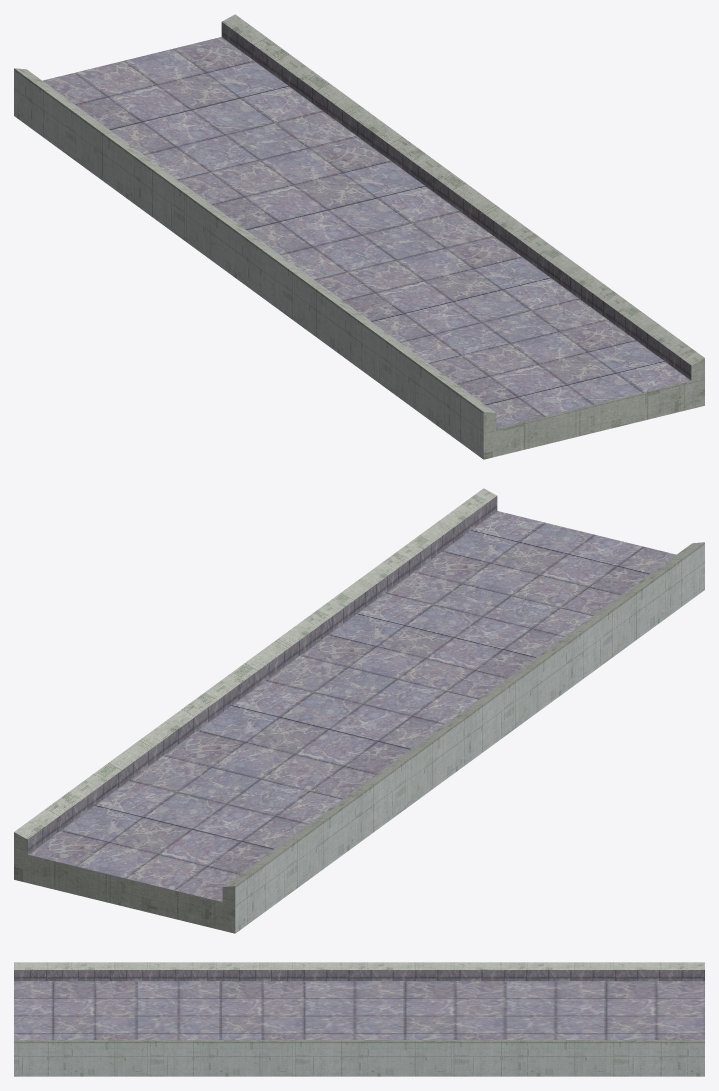
Rendered from bes2_bldg_long_skyway.glb.
3 views of the same model, one above another, from view 1: azimuth 30°, elevation 25°; view 2: azimuth 150°, elevation 25°; view 3: azimuth 270°, elevation 25° (orthographic). The views are drawn at different scales.
Parts seen in each view (by area): view 1: mesh_part1, mesh_part2; view 2: mesh_part1, mesh_part2; view 3: mesh_part1, mesh_part2.
Part boxes in pixels (<box>): mesh_part1: <box>43,22,691,428</box>; mesh_part2: <box>14,14,704,459</box>; mesh_part1: <box>27,496,675,902</box>; mesh_part2: <box>14,488,704,933</box>; mesh_part1: <box>14,970,704,1039</box>; mesh_part2: <box>14,962,704,1076</box>.
Size of the model in its own units: 8 by 1.65 by 29.41.
2 materials, 2 textured.
